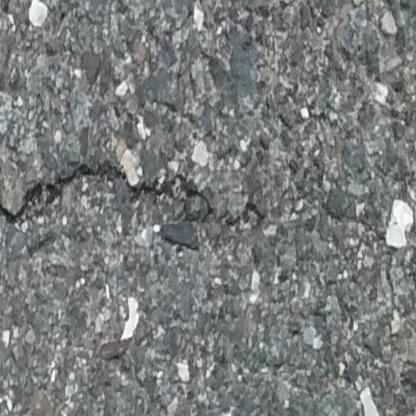Cracks: (0, 160, 267, 233)
